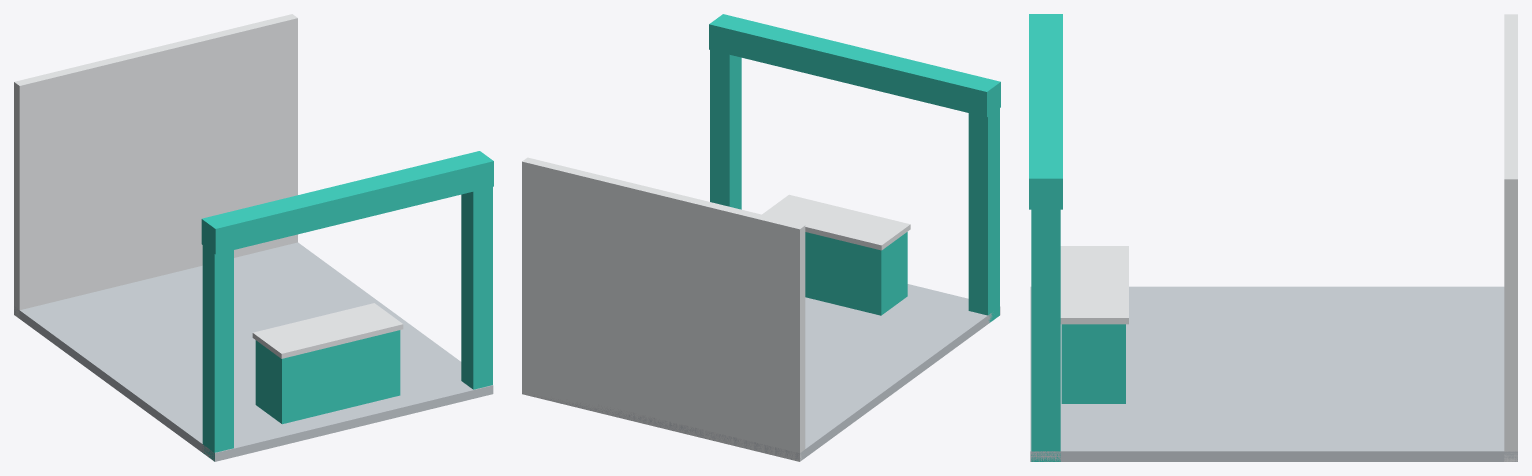
3 renders of one model, left to right at view 1: azimuth 30°, elevation 25°; view 2: azimuth 150°, elevation 25°; view 3: azimuth 270°, elevation 25°, orthographic. The views are drawn at different scales.
Visible parts, largest first — view 1: Exhibition Booth Concept; view 2: Exhibition Booth Concept; view 3: Exhibition Booth Concept.
Boxes of the visible parts, bbox=[...] form: Exhibition Booth Concept: bbox=[14, 14, 493, 461]; Exhibition Booth Concept: bbox=[522, 14, 1000, 461]; Exhibition Booth Concept: bbox=[1029, 14, 1517, 461].
Size of the model in its own units: 4 by 3.2 by 5.02.
